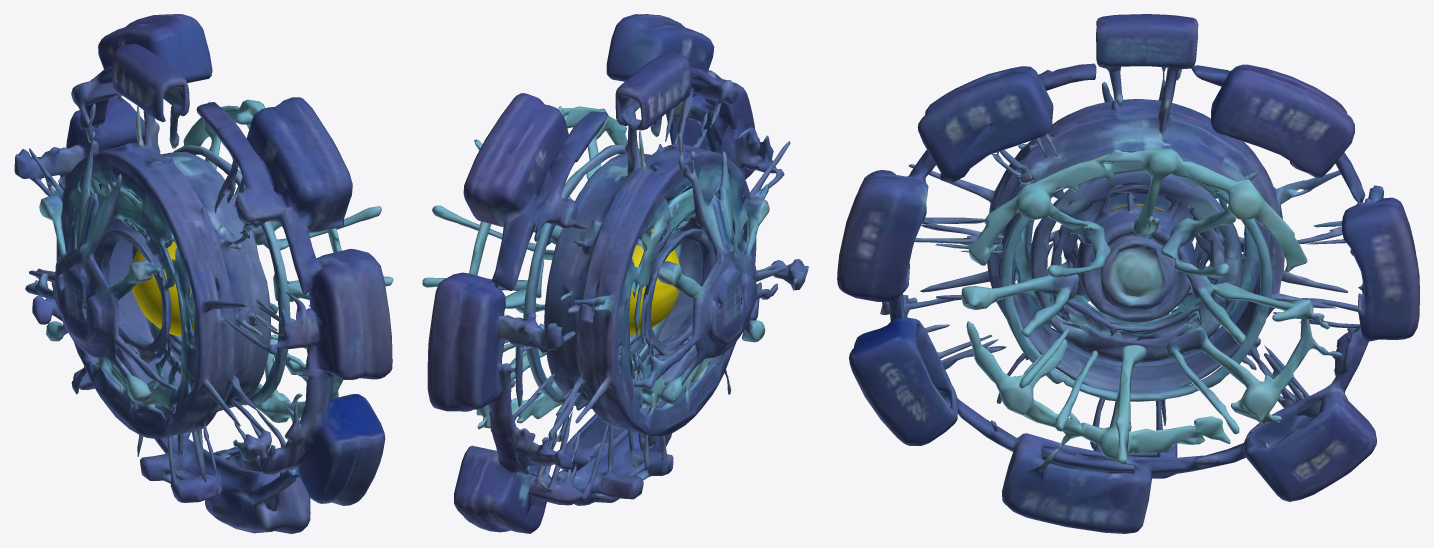
The model's file is citation_graph_display.glb.
3 renders of one model, left to right at view 1: azimuth 30°, elevation 25°; view 2: azimuth 150°, elevation 25°; view 3: azimuth 270°, elevation 25°, orthographic. The views are drawn at different scales.
Visible parts, largest first — view 1: tripo_node_9b67ca24-5c16-4676-a3bd-d61a72803e4e; view 2: tripo_node_9b67ca24-5c16-4676-a3bd-d61a72803e4e; view 3: tripo_node_9b67ca24-5c16-4676-a3bd-d61a72803e4e.
Boxes of the visible parts, x1,y1,x2,y2 form: tripo_node_9b67ca24-5c16-4676-a3bd-d61a72803e4e: (14, 14, 393, 533); tripo_node_9b67ca24-5c16-4676-a3bd-d61a72803e4e: (422, 14, 808, 533); tripo_node_9b67ca24-5c16-4676-a3bd-d61a72803e4e: (837, 14, 1419, 533).
Bounding box in the file's own units: 0.5075 × 0.8537 × 0.949.
1 material, 1 textured.
